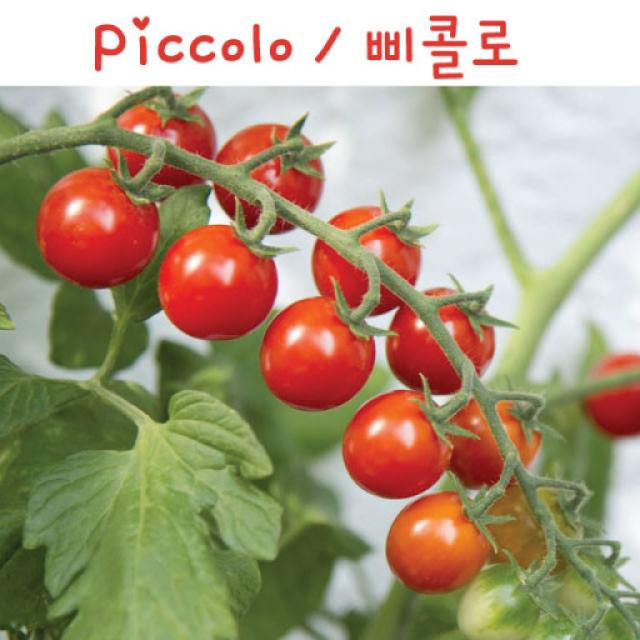level 3: (458, 482, 582, 599)
level 5: (382, 479, 497, 600)
level 6: (30, 150, 166, 292), (152, 212, 286, 343), (255, 288, 383, 416), (302, 189, 428, 316), (332, 379, 458, 505), (384, 274, 501, 398), (209, 110, 326, 225), (104, 87, 221, 199), (432, 380, 550, 488), (575, 337, 640, 450)
